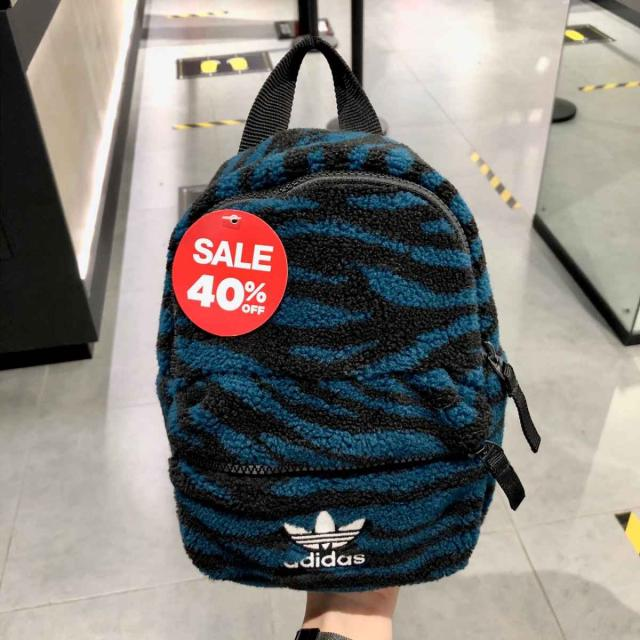Handbag: (174, 157, 488, 580)
